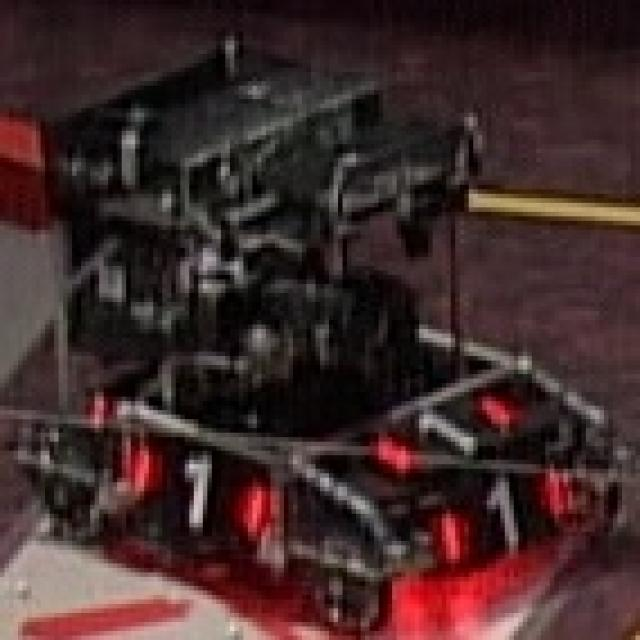R1: (438, 464, 572, 559), (131, 442, 266, 532), (374, 392, 523, 473)
